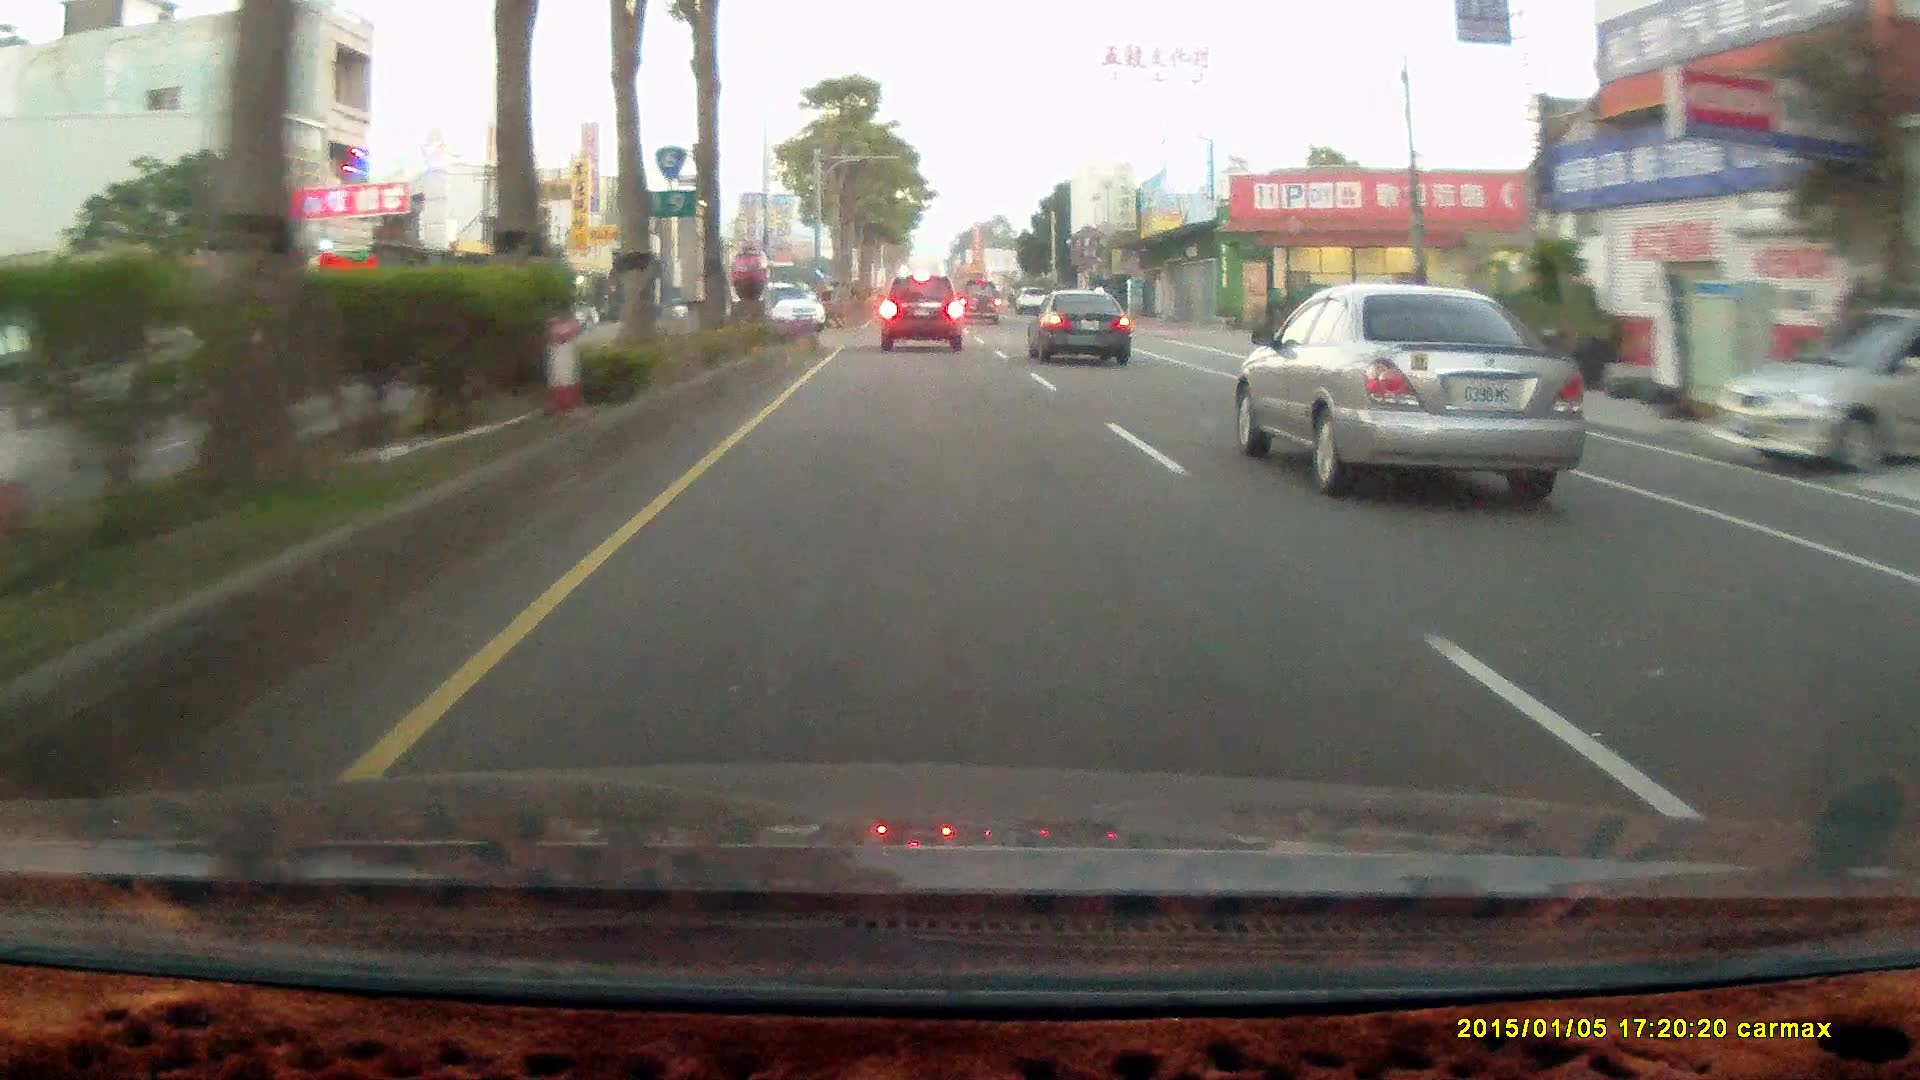vehicle: (1238, 289, 1580, 504), (1712, 303, 1920, 476), (1725, 311, 1920, 485), (1027, 287, 1135, 367), (1025, 285, 1129, 363), (880, 273, 968, 357), (880, 272, 960, 348), (764, 281, 825, 338), (955, 276, 1002, 324)
